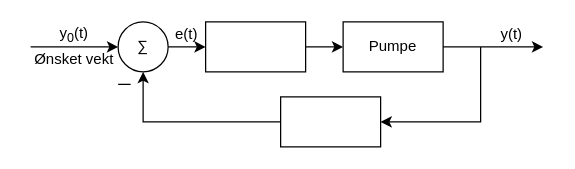
The diagram is 575 pixels wide and 169 high, and some of its shapes have lost their labels. Each missing label, with the centre of its shape:
Kontroller: point 255,46
Vektsensor: point 330,121
